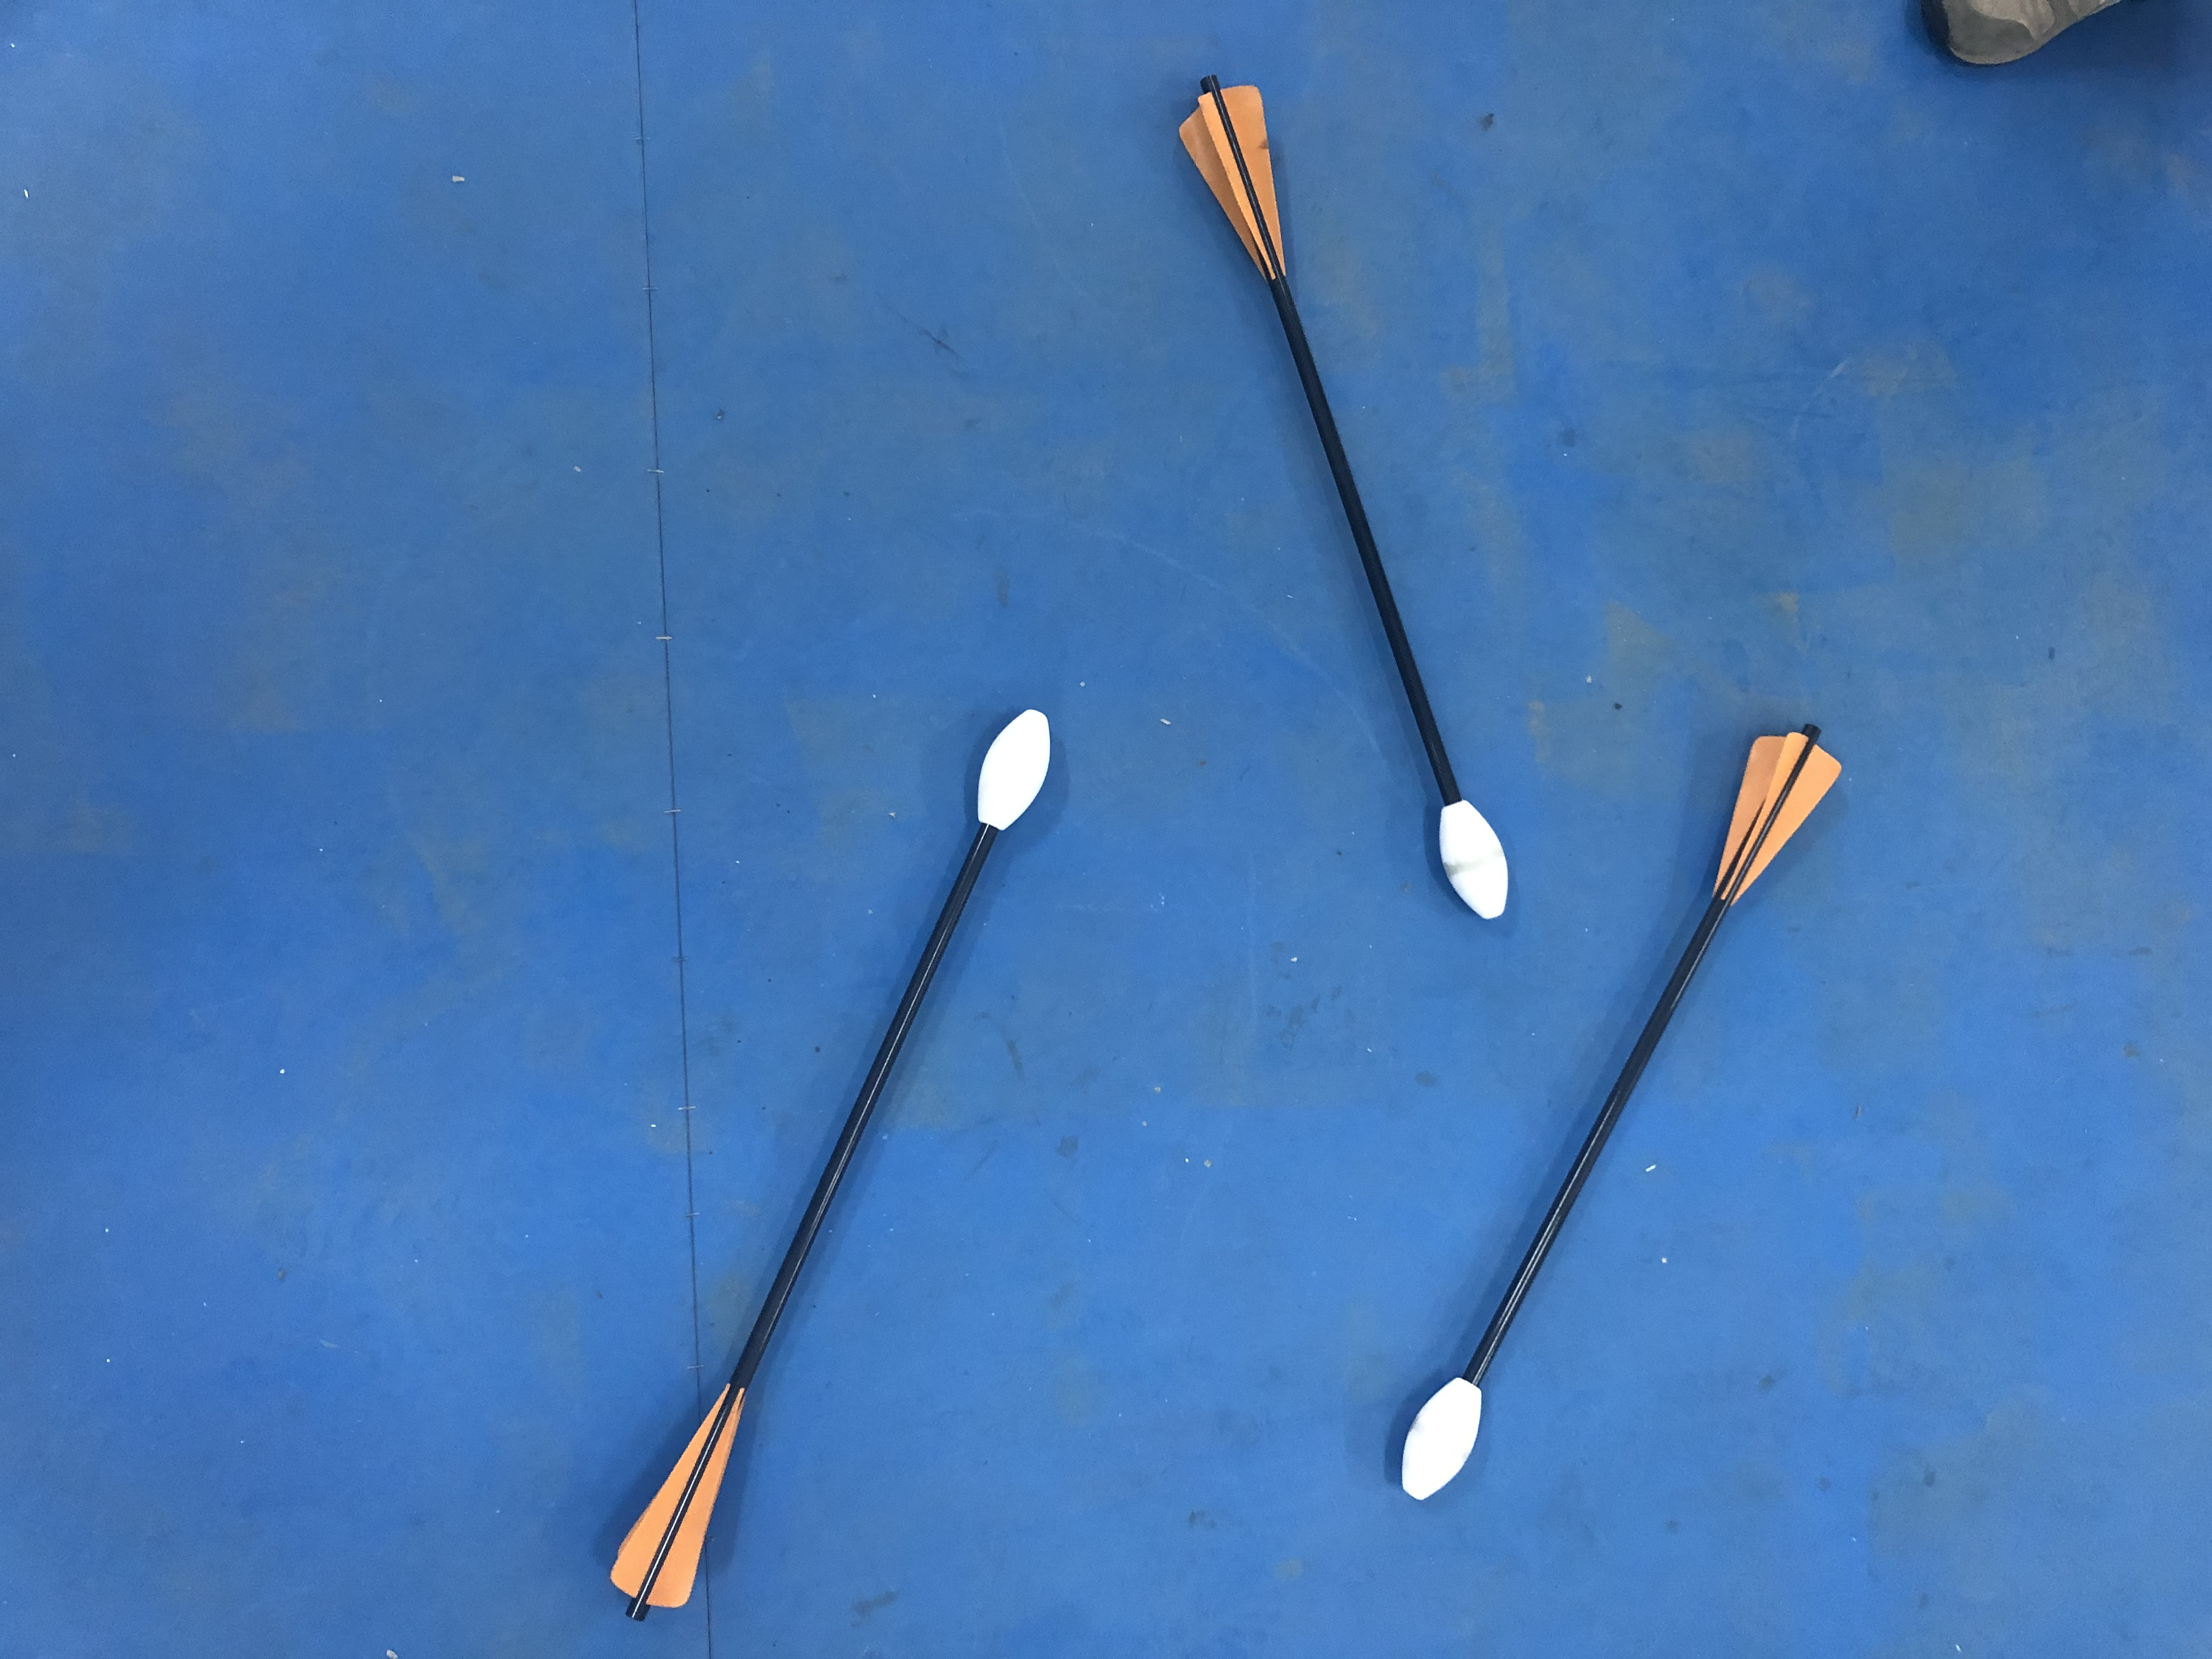arrow: (606, 708, 1052, 1622), (1395, 723, 1848, 1506), (1172, 70, 1514, 922)
arrowFront: (965, 706, 1052, 843), (1402, 1375, 1487, 1500), (1437, 795, 1508, 920)
